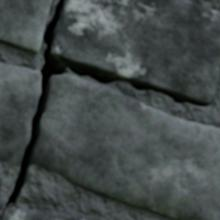brick: (51, 0, 219, 96), (0, 0, 52, 53), (3, 207, 86, 219)
broken_brick: (31, 74, 219, 219), (0, 62, 41, 166)
crack: (0, 0, 219, 219)
